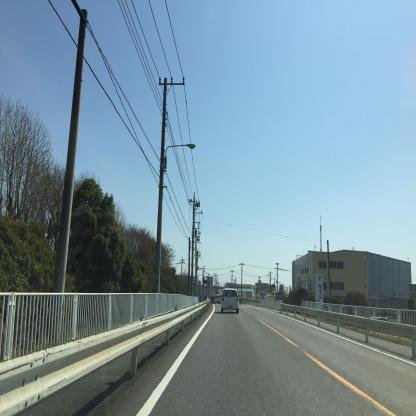Someiyoshino: (254, 282, 278, 301), (234, 287, 250, 303)
